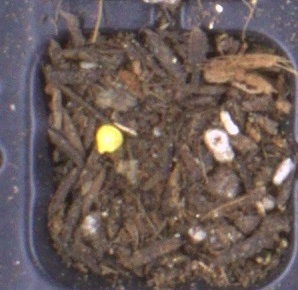chilli seed: (94, 124, 124, 155)
